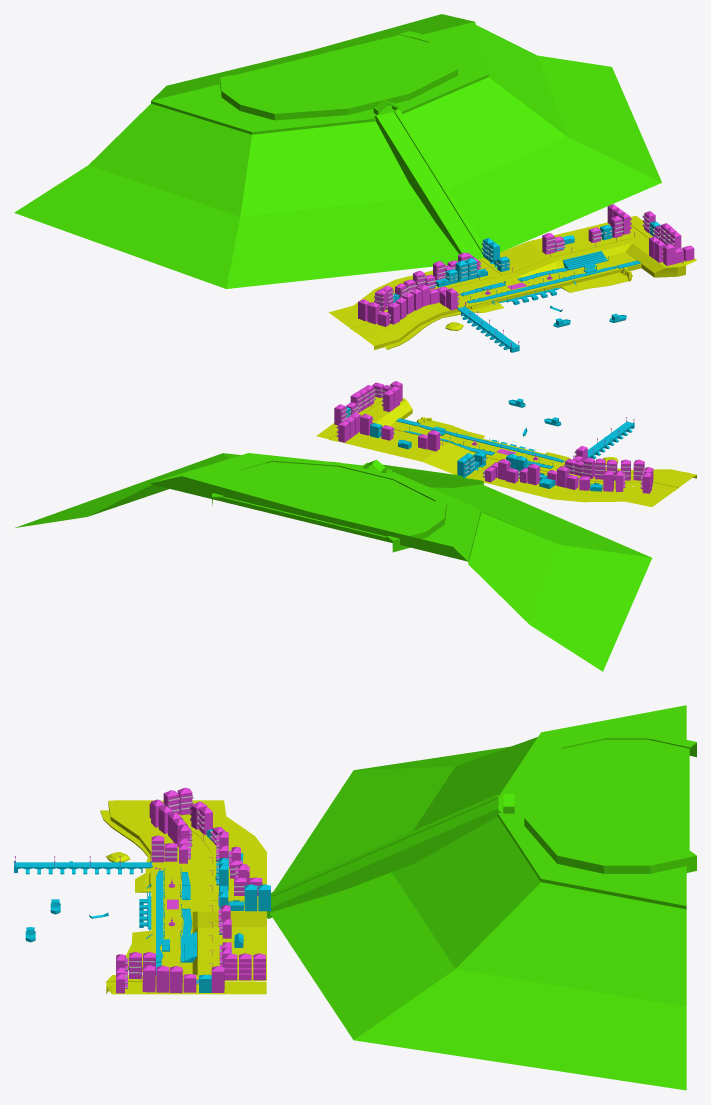
Rendered from MapCarochitos_MateriaisCais.fbx.
3 views of the same model, one above another, from view 1: azimuth 30°, elevation 25°; view 2: azimuth 150°, elevation 25°; view 3: azimuth 270°, elevation 25° (orthographic). The views are drawn at different scales.
Visible parts, largest first — view 1: Plataforma Grande.001, Terreno, PosteLuz.011; view 2: Plataforma Grande.001, Terreno, PosteLuz.011; view 3: Plataforma Grande.001, Terreno, PosteLuz.011.
Part boxes in pixels (box(x1,y1,x2,y2)): Plataforma Grande.001: box(14, 14, 661, 288); Terreno: box(329, 215, 696, 349); PosteLuz.011: box(457, 251, 640, 352); Plataforma Grande.001: box(15, 453, 651, 671); Terreno: box(316, 396, 696, 507); PosteLuz.011: box(396, 398, 634, 468); Plataforma Grande.001: box(267, 705, 696, 1090); Terreno: box(100, 800, 266, 994); PosteLuz.011: box(14, 861, 196, 974).
Bounding box in the file's own units: 46739 × 7421 × 36419.
